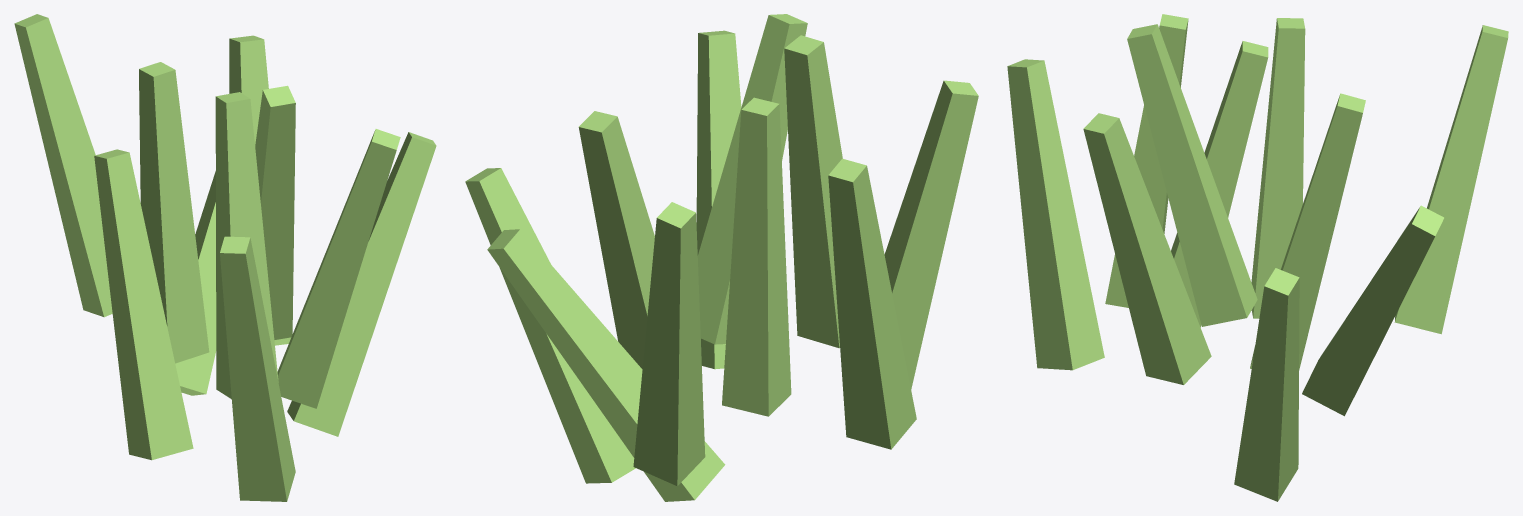
File: GL_Glass 2.fbx
The picture shows the model from 3 angles, left to right: view 1: azimuth 30°, elevation 25°; view 2: azimuth 150°, elevation 25°; view 3: azimuth 270°, elevation 25°; orthographic projection. The views are drawn at different scales.
Visible parts, largest first — view 1: 平面.002; view 2: 平面.002; view 3: 平面.002.
Boxes of the visible parts, x1,y1,x2,y2 form: 平面.002: (14,14,436,501); 平面.002: (465,14,978,501); 平面.002: (1007,14,1508,501).
Bounding box in the file's own units: 100 × 113 × 124.
